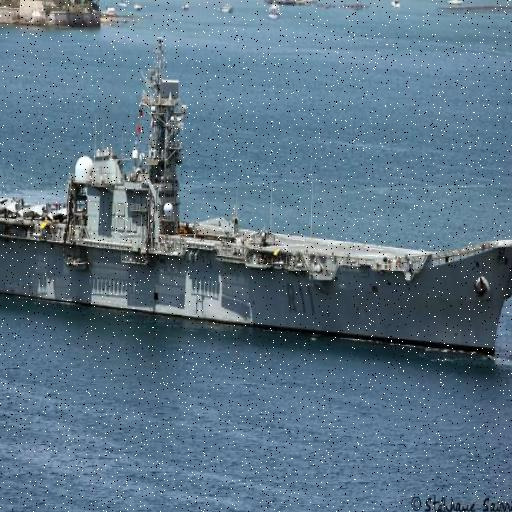Portanaves: (1, 33, 512, 367)
